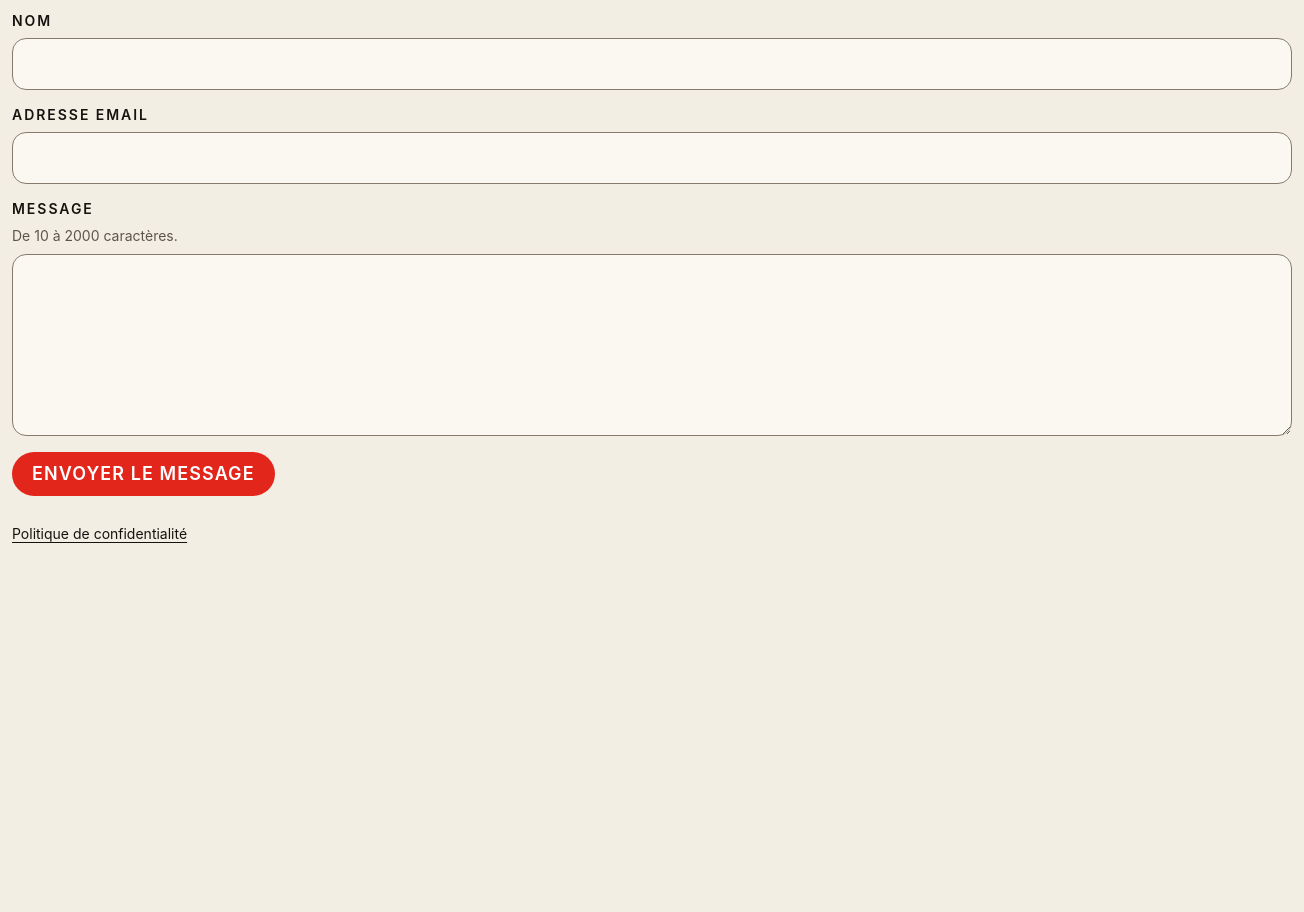
Test: FormulaireContact › échec de la base : pas de succès, saisie gardée
The image size is (1304, 912).
Click the button "Envoyer le message" at (143, 474), box x1=12 y1=452 x2=275 y2=496
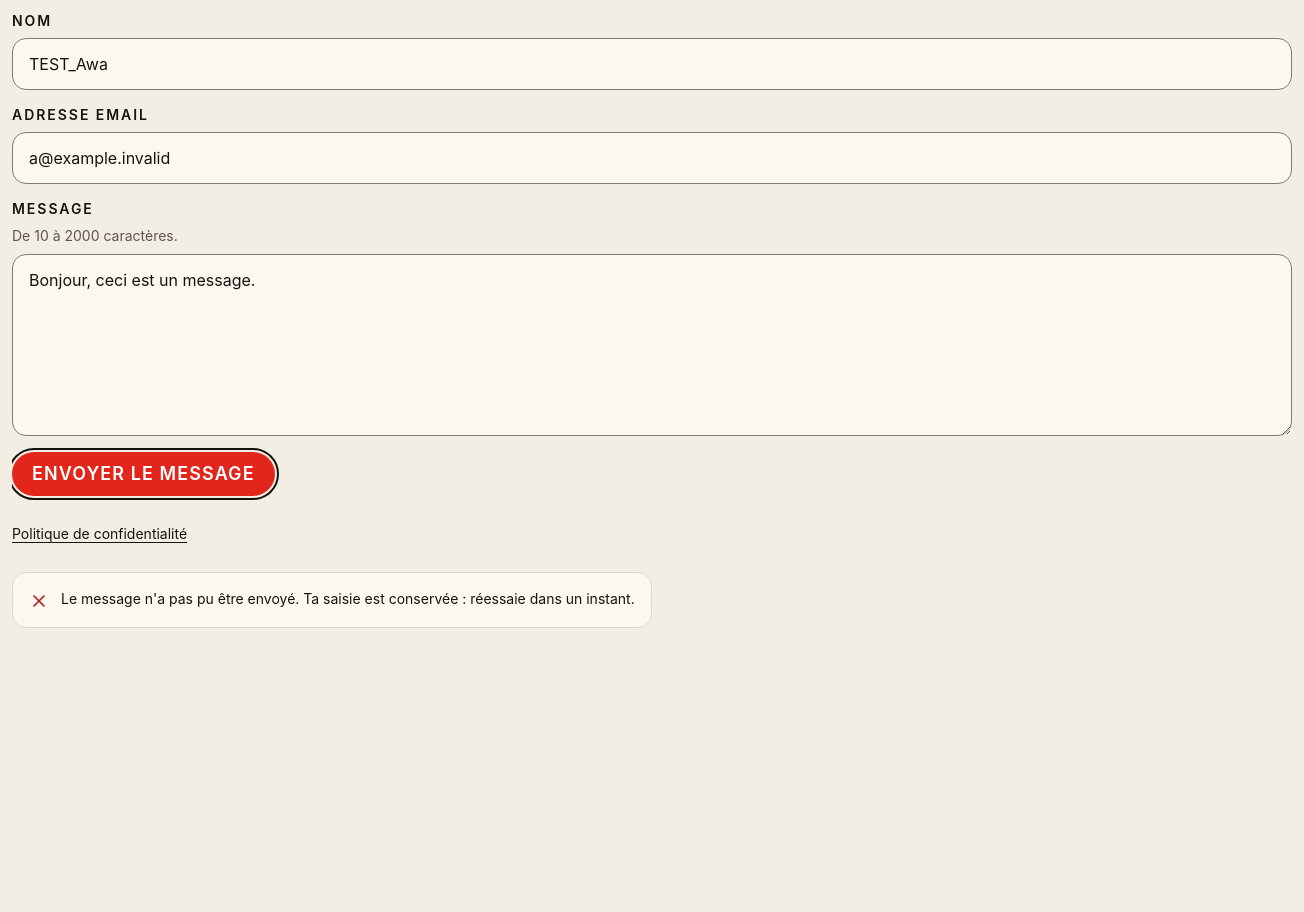
Expected: the text "n'a pas pu être envoyé" is shown, x1=61 y1=590 x2=635 y2=607
Expected: the field labelled "Nom" holds "TEST_Awa", x1=12 y1=38 x2=1292 y2=90
